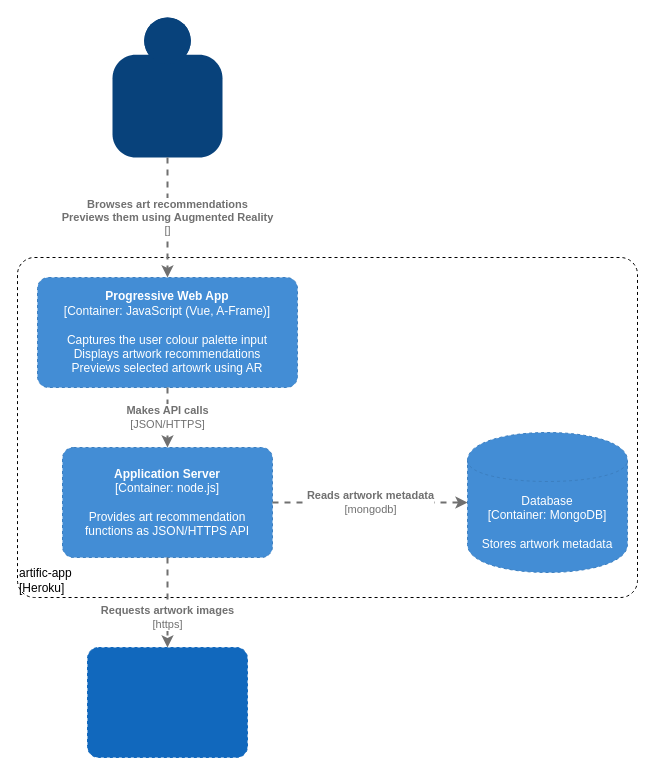
Image size: 655x775. Some labels were removed from this diagram. Here are the shapes that lost their labels. From the top down, the box of each, then its label:
(112, 17, 222, 157): User [Person]
(86, 646, 248, 758): Cloudinary [Software System] Hosts artwork images
